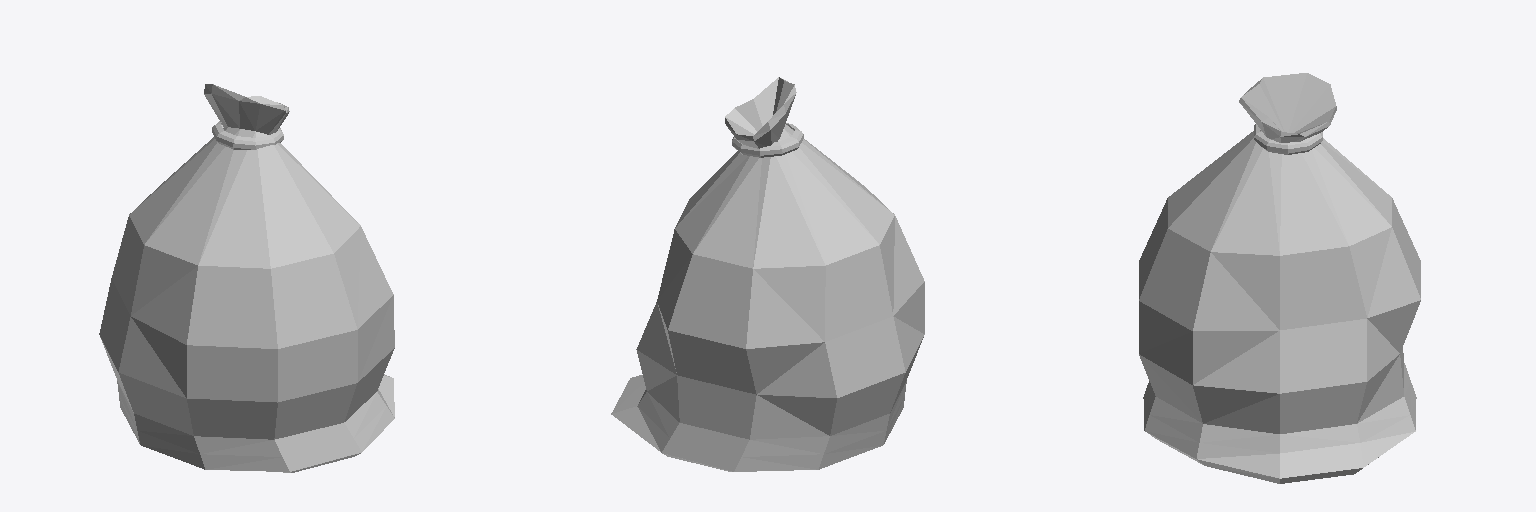
Rendered from trash1.obj.
3 renders of one model, left to right at view 1: azimuth 30°, elevation 25°; view 2: azimuth 150°, elevation 25°; view 3: azimuth 270°, elevation 25°, orthographic.
Parts seen in each view (by area): view 1: pCylinder77; view 2: pCylinder77; view 3: pCylinder77.
Boxes of the visible parts, x1=… form: pCylinder77: x1=99, y1=84, x2=394, y2=472; pCylinder77: x1=611, y1=77, x2=924, y2=471; pCylinder77: x1=1139, y1=73, x2=1420, y2=483.
Size of the model in its own units: 1.41 by 1.66 by 1.26.